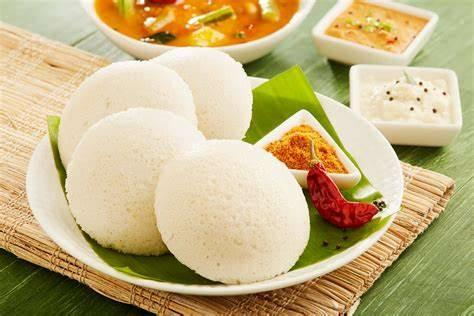CoconutChutney: (354, 71, 456, 127)
Idli: (64, 109, 209, 252), (157, 141, 309, 277), (58, 60, 199, 166), (149, 47, 253, 147)
